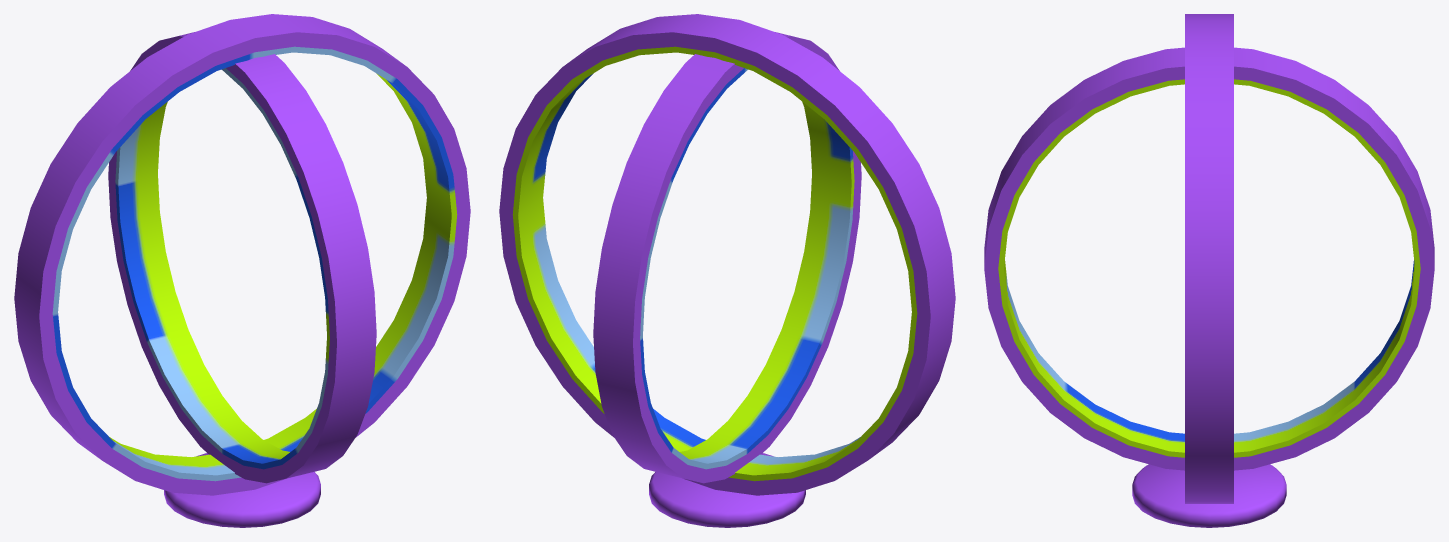
The model's file is LightTable07_2.FBX.
3 views of the same model, side by side, from view 1: azimuth 30°, elevation 25°; view 2: azimuth 150°, elevation 25°; view 3: azimuth 270°, elevation 25° (orthographic).
Parts seen in each view (by area): view 1: LightTable07_2; view 2: LightTable07_2; view 3: LightTable07_2.
Boxes of the visible parts, x1=… form: LightTable07_2: x1=14, y1=14, x2=470, y2=527; LightTable07_2: x1=499, y1=14, x2=955, y2=527; LightTable07_2: x1=984, y1=14, x2=1434, y2=527.
Bounding box in the file's own units: 38.13 × 39.33 × 35.02.
